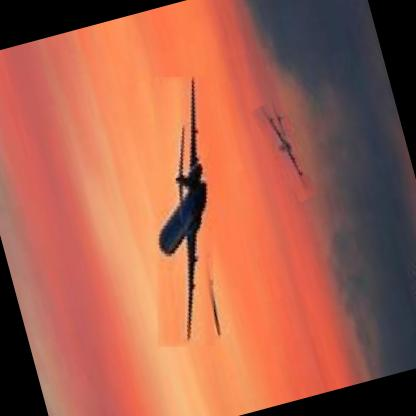plane: (106, 68, 261, 354), (254, 97, 313, 206)
